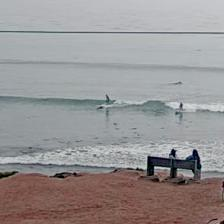surfer: (171, 82, 182, 86), (105, 94, 110, 102), (179, 102, 184, 110)
